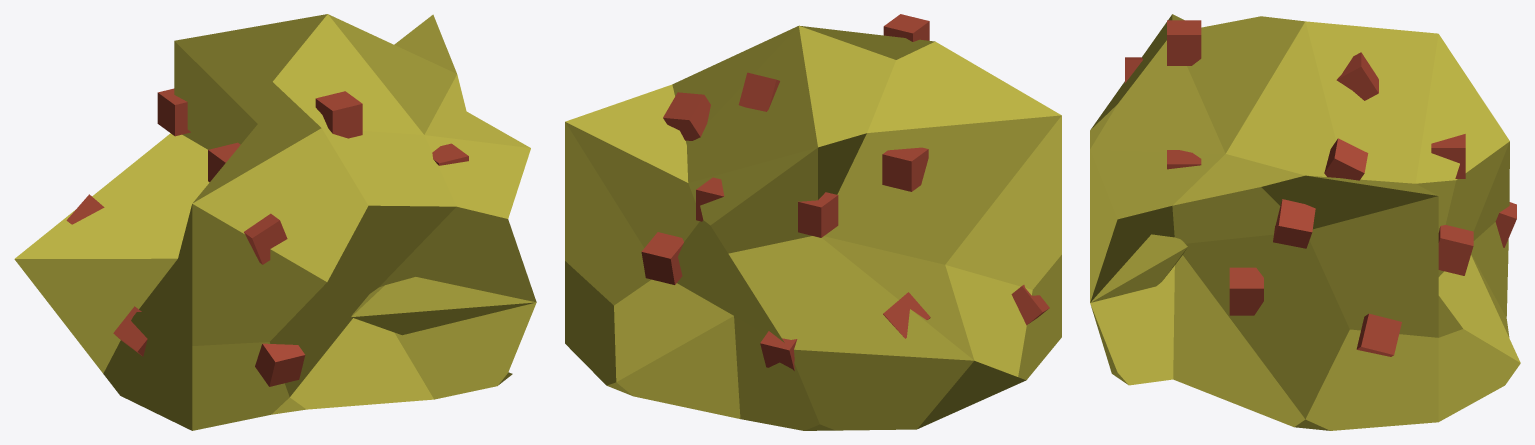
The model's file is bush.fbx.
The picture shows the model from 3 angles, left to right: view 1: azimuth 30°, elevation 25°; view 2: azimuth 150°, elevation 25°; view 3: azimuth 270°, elevation 25°; orthographic projection. The views are drawn at different scales.
Visible parts, largest first — view 1: pPlatonic2, pCube46, pCube39, pCube47, pCube42, pCube45, pCube41, pCube40, pCube44; view 2: pPlatonic2, pCube41, pCube50, pCube37, pCube42, pCube36, pCube43, pCube39, pCube44, pCube45, pCube35; view 3: pPlatonic2, pCube38, pCube48, pCube39, pCube50, pCube49, pCube37, pCube36, pCube35, pCube43, pCube40.
Boxes of the visible parts, x1,y1,x2,y2 form: pPlatonic2: (14,14,536,430); pCube46: (255,343,305,386); pCube39: (315,91,362,138); pCube47: (244,213,287,264); pCube42: (157,88,190,136); pCube45: (113,306,147,356); pCube41: (208,142,240,182); pCube40: (432,143,468,165); pCube44: (66,194,104,224); pPlatonic2: (565,25,1061,430); pCube41: (882,147,928,191); pCube50: (641,232,683,284); pCube37: (663,92,710,140); pCube42: (798,192,838,237); pCube36: (738,72,779,111); pCube43: (760,331,797,370); pCube39: (883,14,929,41); pCube44: (883,292,930,338); pCube45: (1011,285,1049,325); pCube35: (696,177,724,221); pPlatonic2: (1090,14,1520,430); pCube38: (1273,199,1315,248); pCube48: (1229,267,1263,315); pCube39: (1167,20,1201,65); pCube50: (1438,225,1473,275); pCube49: (1356,313,1401,356); pCube37: (1324,138,1368,180); pCube36: (1336,52,1378,100); pCube35: (1431,134,1465,178); pCube43: (1495,202,1516,247); pCube40: (1167,150,1201,169).
Size of the model in its own units: 1.66 by 1.14 by 1.41.
